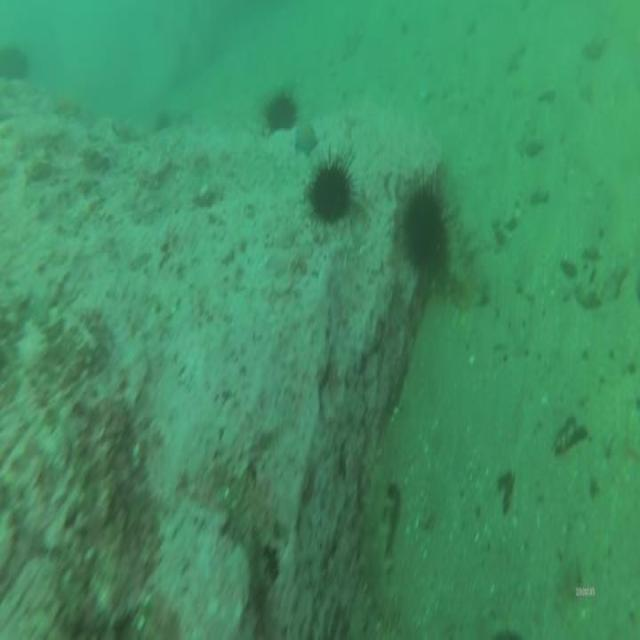echinus: (404, 191, 447, 267), (310, 163, 352, 223), (268, 92, 295, 130)
holothurian: (363, 463, 397, 632), (447, 206, 487, 300)
starfish: (296, 117, 317, 150)
